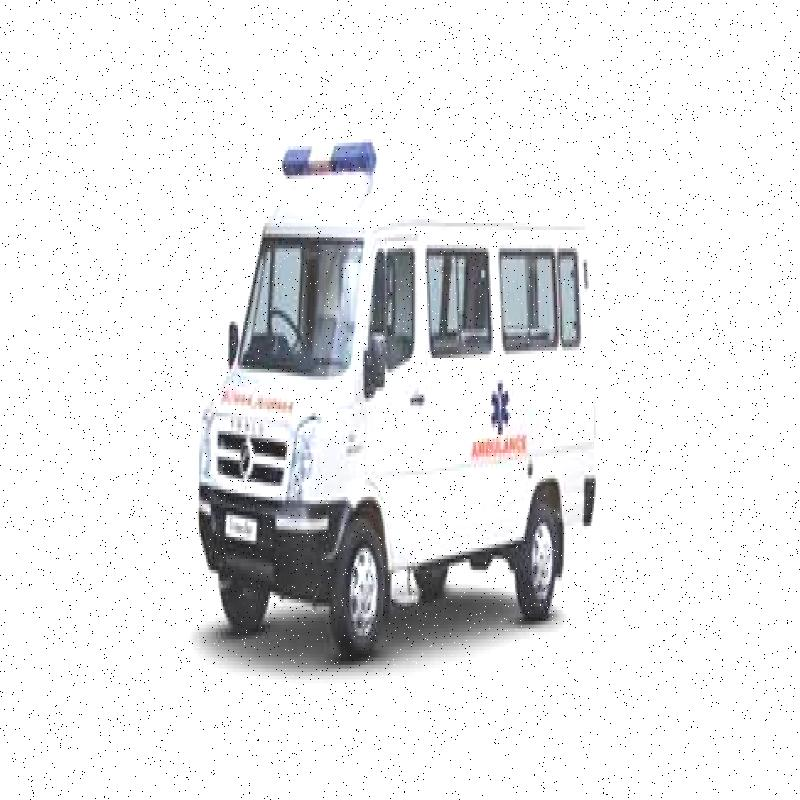AmbulanceSiren: (277, 126, 383, 188)
